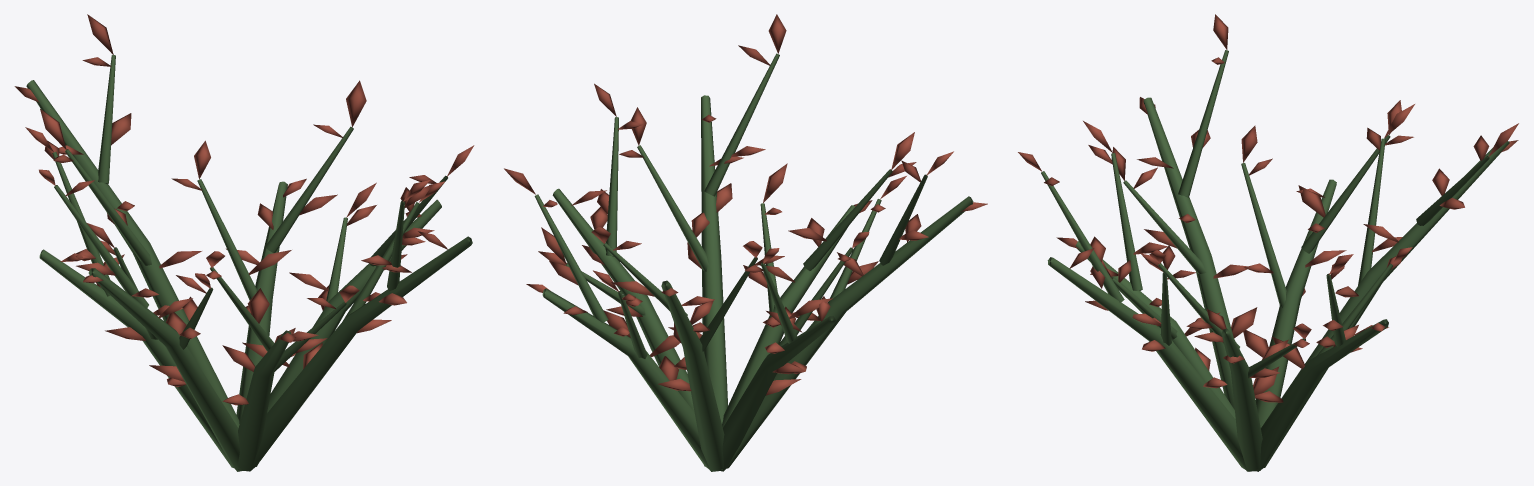
Rendered from red_glasswort.glb.
The picture shows the model from 3 angles, left to right: view 1: azimuth 30°, elevation 25°; view 2: azimuth 150°, elevation 25°; view 3: azimuth 270°, elevation 25°; orthographic projection. The views are drawn at different scales.
Parts seen in each view (by area): view 1: red_glasswort; view 2: red_glasswort; view 3: red_glasswort.
Part boxes in pixels (box(x1,y1,x2,y2)): red_glasswort: box(14, 14, 474, 471); red_glasswort: box(504, 14, 987, 471); red_glasswort: box(1018, 14, 1518, 471).
Bounding box in the file's own units: 0.3996 × 0.3439 × 0.4475.
